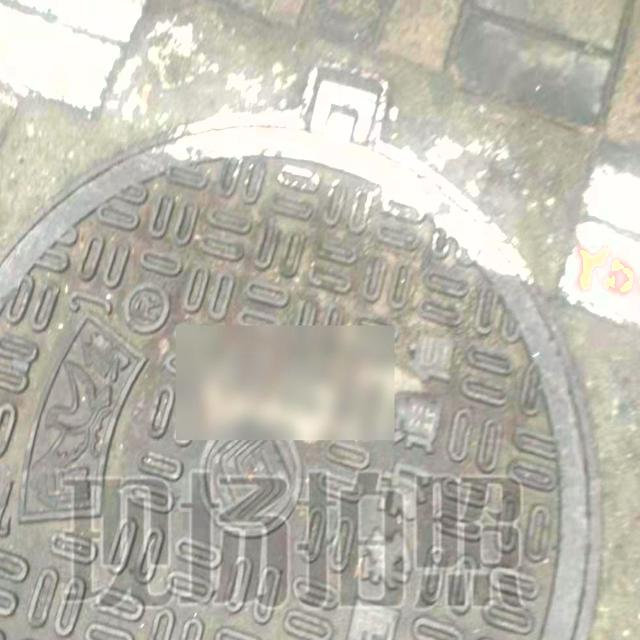good: (0, 59, 608, 640)
